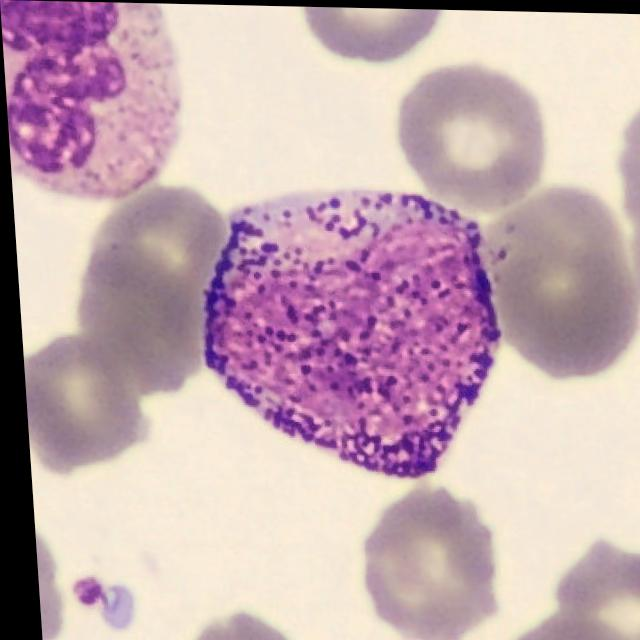Promielocito: (198, 188, 498, 478)
